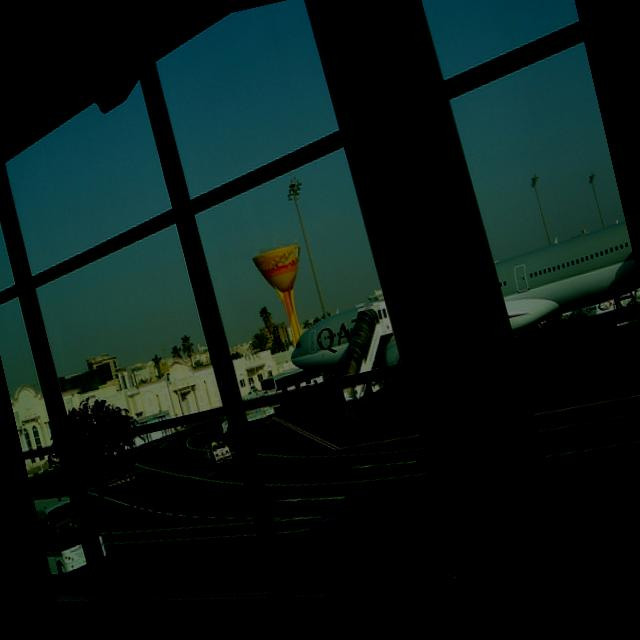Vehicle: (31, 476, 109, 580), (217, 402, 285, 438), (260, 364, 323, 397)
